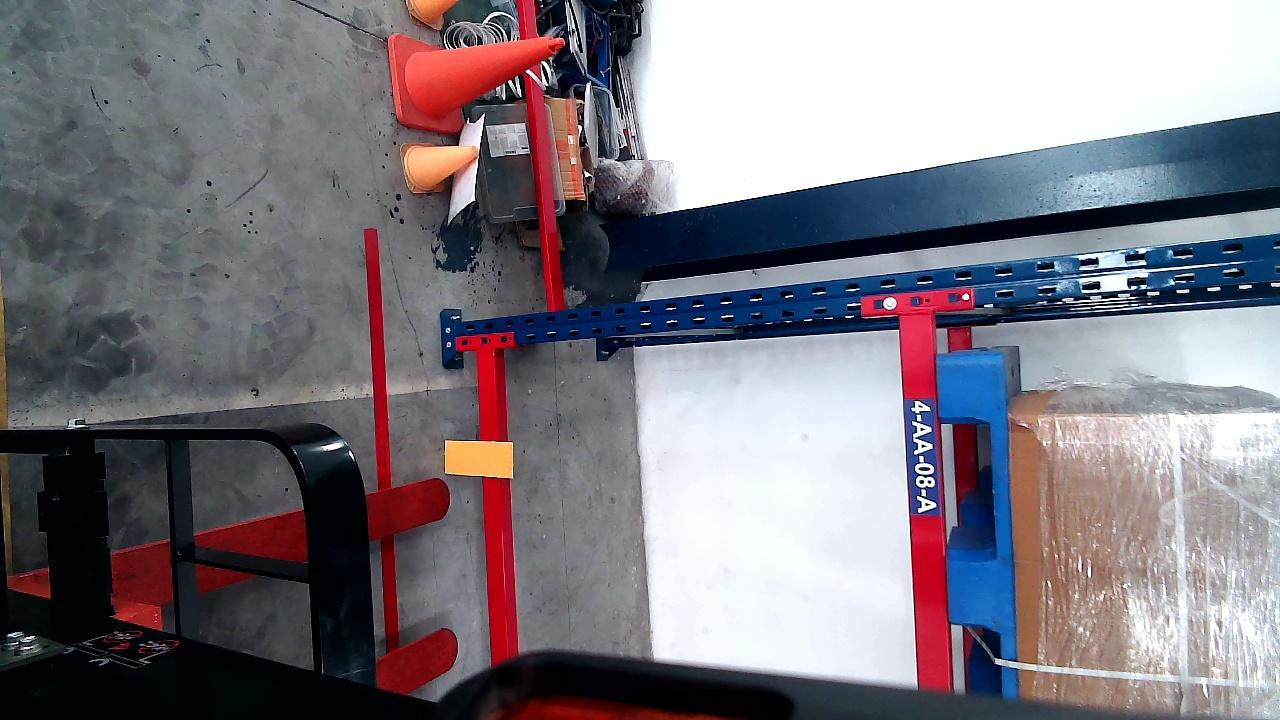red_line: (366, 218, 391, 482)
yellow_line: (0, 271, 17, 574)
